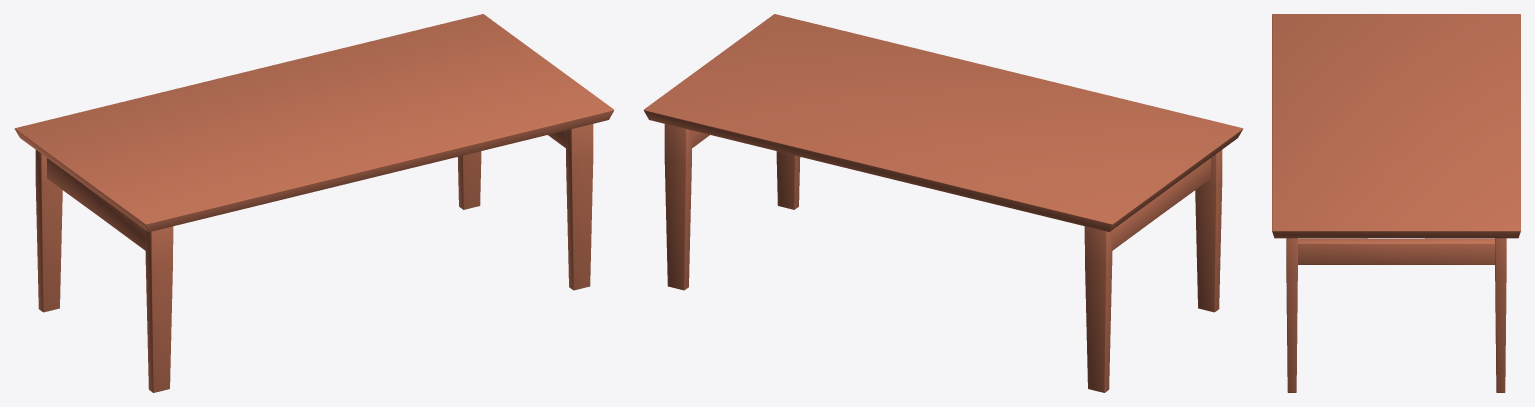
The model's file is MesaDeJantar.fbx.
The picture shows the model from 3 angles, left to right: view 1: azimuth 30°, elevation 25°; view 2: azimuth 150°, elevation 25°; view 3: azimuth 270°, elevation 25°; orthographic projection. The views are drawn at different scales.
Parts seen in each view (by area): view 1: MesaJantar, MesaJantar.Pernas; view 2: MesaJantar, MesaJantar.Pernas; view 3: MesaJantar, MesaJantar.Pernas.
Boxes of the visible parts, <box> form: MesaJantar: <box>14,14,614,231</box>; MesaJantar.Pernas: <box>35,124,593,392</box>; MesaJantar: <box>643,14,1243,231</box>; MesaJantar.Pernas: <box>664,124,1222,392</box>; MesaJantar: <box>1272,14,1520,238</box>; MesaJantar.Pernas: <box>1286,238,1506,392</box>.
Size of the model in its own units: 225 by 82.14 by 109.
